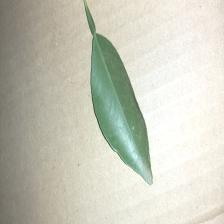healthy: (91, 40, 154, 193)
